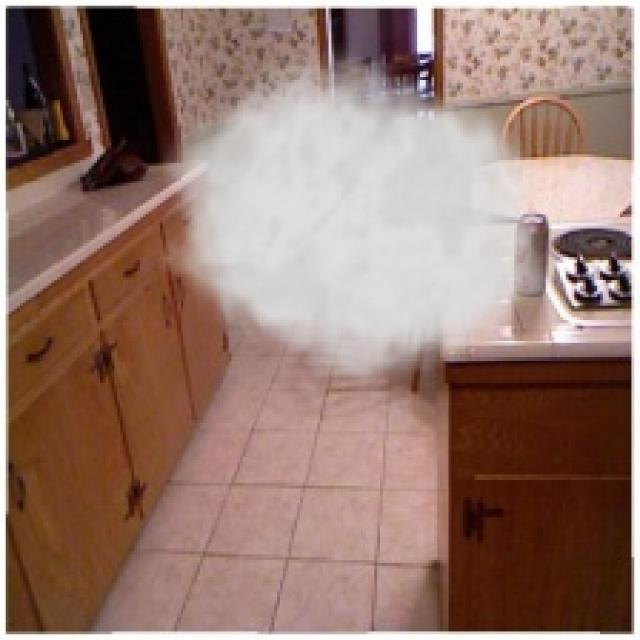Smoke: (157, 39, 563, 392)
